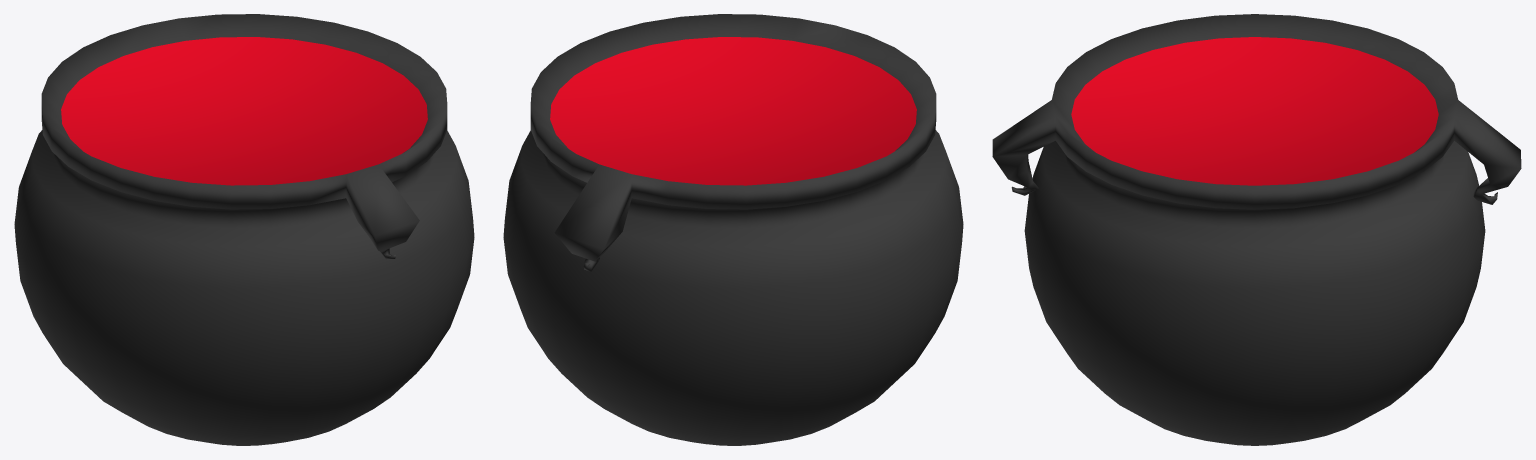
Rendered from cauldron.fbx.
3 views of the same model, side by side, from view 1: azimuth 30°, elevation 25°; view 2: azimuth 150°, elevation 25°; view 3: azimuth 270°, elevation 25° (orthographic).
Parts seen in each view (by area): view 1: Sphere; view 2: Sphere; view 3: Sphere.
Boxes of the visible parts, bbox=[...] form: Sphere: bbox=[14, 14, 474, 445]; Sphere: bbox=[503, 14, 963, 445]; Sphere: bbox=[992, 14, 1521, 445].
Bounding box in the file's own units: 200 × 155 × 230.
